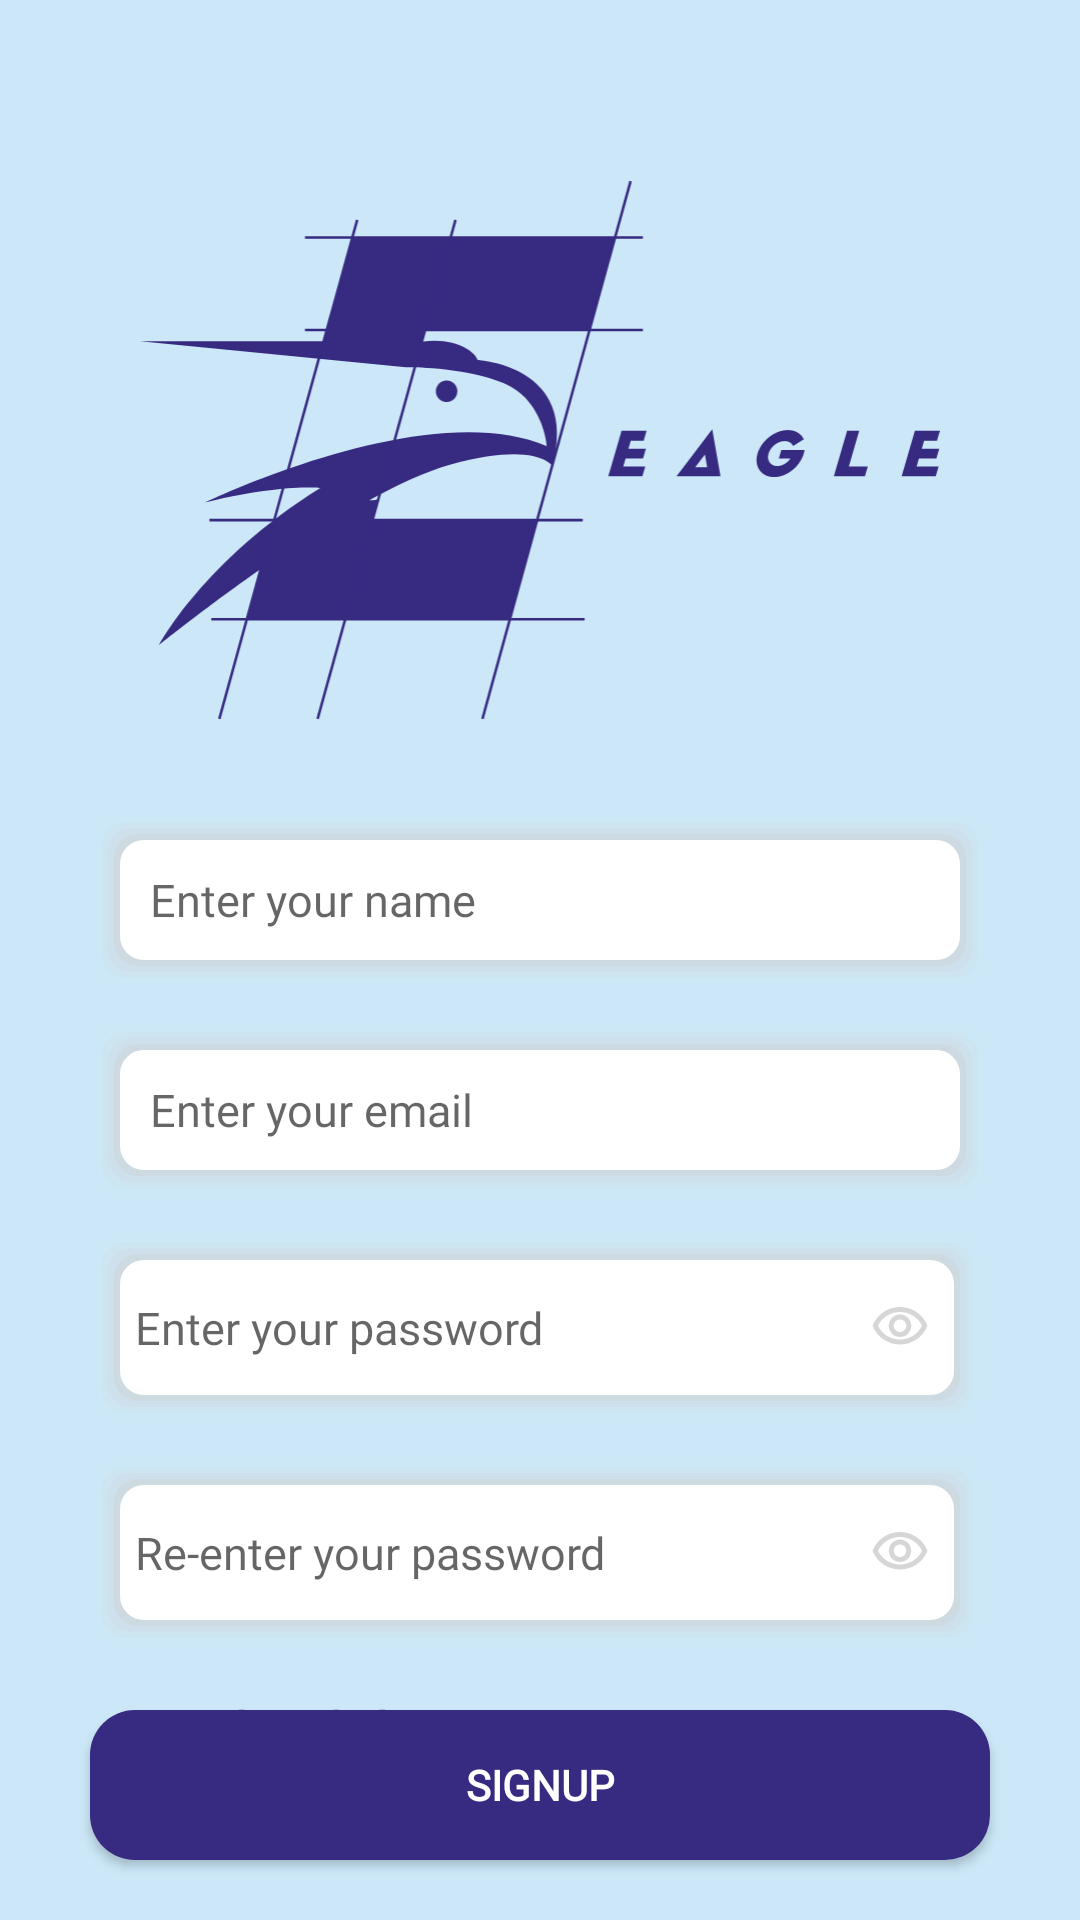

Icons on this 1080×1920 Android screen, each with its box as (x1, y1, x2, y2):
visibility: (873, 1307, 927, 1344), (873, 1532, 927, 1569)
